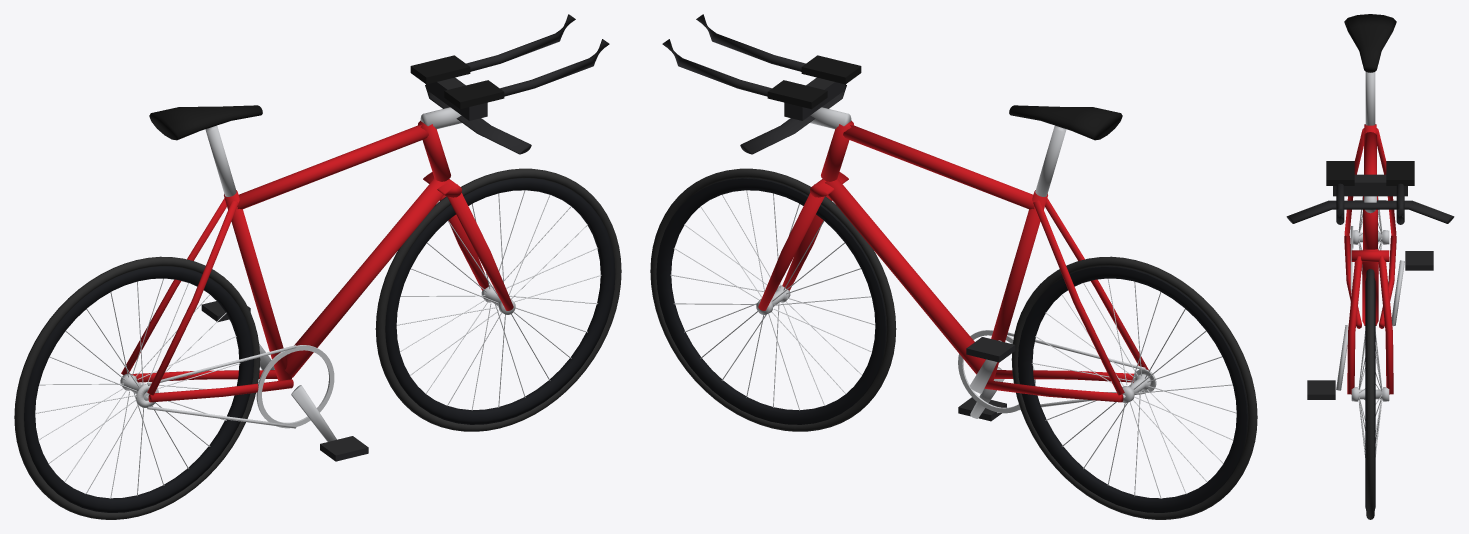
Rendered from bike.glb.
The picture shows the model from 3 angles, left to right: view 1: azimuth 30°, elevation 25°; view 2: azimuth 150°, elevation 25°; view 3: azimuth 270°, elevation 25°; orthographic projection. The views are drawn at different scales.
Visible parts, largest first — view 1: wheel_front_rim, wheel_rear_rim, wheel_rear_tyre, wheel_front_tyre, down_tube, wheel_front_spokes, top_tube, wheel_rear_spokes, seat_tube, saddle, fork_l, seatstay_l (+15 smaller); view 2: wheel_front_rim, wheel_rear_rim, wheel_rear_tyre, wheel_front_tyre, down_tube, wheel_front_spokes, top_tube, wheel_rear_spokes, saddle, seat_tube, fork_r, seatstay_r (+14 smaller); view 3: wheel_front_tyre, saddle, base_bar, fork_l, fork_r, pad_riser, wheel_front_rim, wheel_front_spokes, armpad_l, armpad_r, down_tube, head_tube (+16 smaller).
Boxes of the visible parts, x1,y1,x2,y2 form: wheel_front_rim: (385, 178, 615, 424); wheel_rear_rim: (24, 266, 253, 512); wheel_rear_tyre: (14, 256, 260, 519); wheel_front_tyre: (375, 168, 621, 431); down_tube: (285, 178, 446, 377); wheel_front_spokes: (396, 190, 601, 410); top_tube: (237, 125, 428, 209); wheel_rear_spokes: (35, 278, 240, 498); seat_tube: (224, 190, 291, 380); saddle: (149, 105, 262, 140); fork_l: (447, 184, 513, 310); seatstay_l: (147, 200, 238, 395); wheel_front_rim: (656, 178, 886, 424); wheel_rear_rim: (1018, 266, 1247, 512); wheel_rear_tyre: (1011, 256, 1257, 519); wheel_front_tyre: (650, 168, 896, 431); down_tube: (825, 178, 984, 374); wheel_front_spokes: (670, 190, 874, 410); top_tube: (843, 125, 1034, 209); wheel_rear_spokes: (1031, 278, 1236, 498); saddle: (1009, 105, 1122, 140); seat_tube: (984, 190, 1047, 380); fork_r: (758, 184, 824, 310); seatstay_r: (1033, 200, 1124, 395); wheel_front_tyre: (1366, 269, 1374, 519); saddle: (1344, 14, 1396, 72); base_bar: (1286, 200, 1454, 223); fork_l: (1347, 256, 1362, 394); fork_r: (1378, 256, 1393, 394); pad_riser: (1333, 174, 1407, 196); wheel_front_rim: (1365, 278, 1375, 510); wheel_front_spokes: (1358, 331, 1382, 457); armpad_l: (1326, 161, 1354, 185); armpad_r: (1386, 161, 1414, 185); down_tube: (1362, 249, 1378, 324); head_tube: (1363, 196, 1377, 249).
Bounding box in the file's own units: 1.65 × 1.02 × 0.4471.
